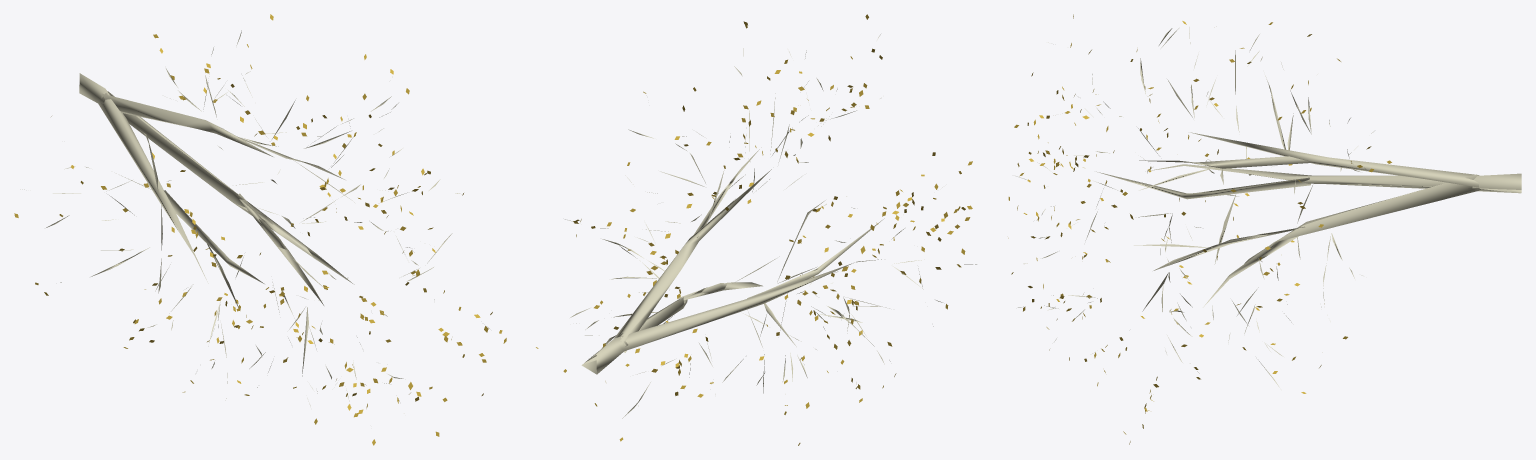
File: birchTreeWithLeaves_low.glb
The picture shows the model from 3 angles, left to right: view 1: azimuth 30°, elevation 25°; view 2: azimuth 150°, elevation 25°; view 3: azimuth 270°, elevation 25°; orthographic projection. The views are drawn at different scales.
Parts seen in each view (by area): view 1: birchTreeWithLeaves.001; view 2: birchTreeWithLeaves.001; view 3: birchTreeWithLeaves.001.
Boxes of the visible parts, x1,y1,x2,y2 form: birchTreeWithLeaves.001: [14, 14, 506, 445]; birchTreeWithLeaves.001: [536, 14, 976, 445]; birchTreeWithLeaves.001: [1008, 14, 1521, 444].
Size of the model in its own units: 1.77 by 1.86 by 2.41.
